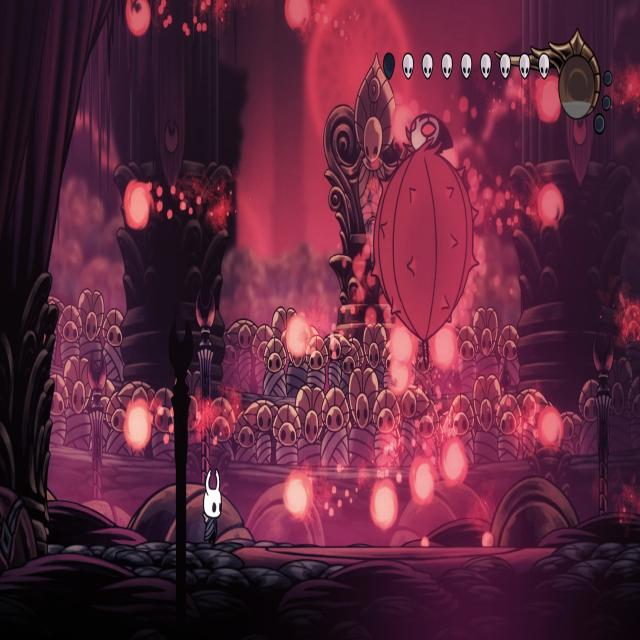Player: (198, 461, 223, 546)
Pufferfish: (365, 109, 482, 366)
Tiny Fireballs: (124, 400, 152, 452), (371, 479, 398, 529), (440, 438, 468, 486), (124, 182, 151, 230), (410, 458, 436, 506), (432, 325, 458, 373), (535, 183, 562, 228), (284, 472, 310, 518), (389, 324, 415, 366), (285, 315, 309, 360), (538, 407, 563, 450), (386, 358, 412, 397), (125, 0, 151, 38), (284, 0, 310, 30)
